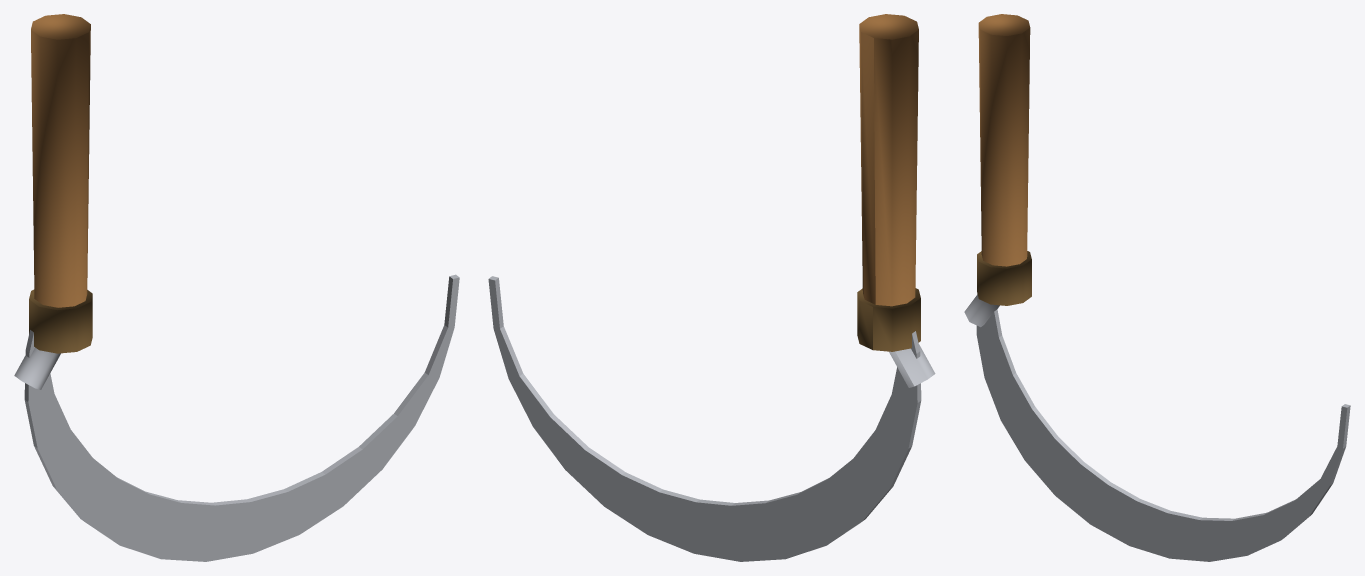
File: sichel.glb
The picture shows the model from 3 angles, left to right: view 1: azimuth 30°, elevation 25°; view 2: azimuth 150°, elevation 25°; view 3: azimuth 330°, elevation 25°; orthographic projection. The views are drawn at different scales.
Visible parts, largest first — view 1: Cone; view 2: Cone; view 3: Cone.
Boxes of the visible parts, left/top/right/bottom form: Cone: left=14, top=14, right=459, bottom=561; Cone: left=488, top=14, right=935, bottom=561; Cone: left=964, top=14, right=1350, bottom=561.
Bounding box in the file's own units: 0.2658 × 0.3299 × 0.034.
